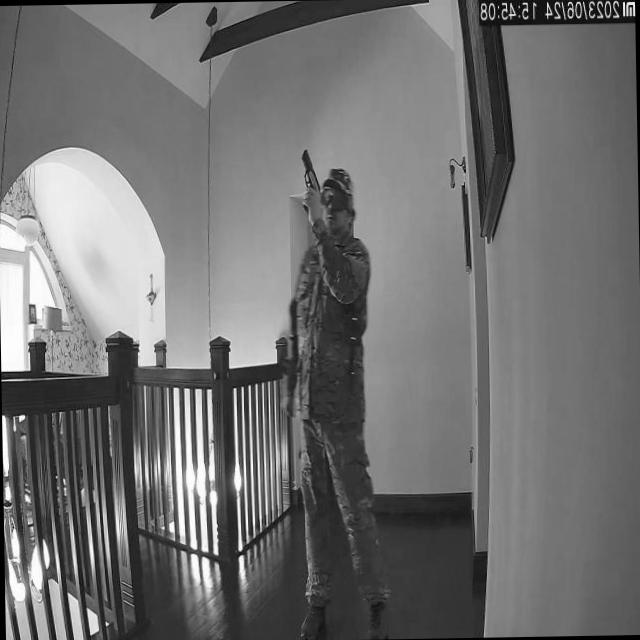gun: (300, 146, 324, 209)
person with a gun: (281, 165, 388, 638)
